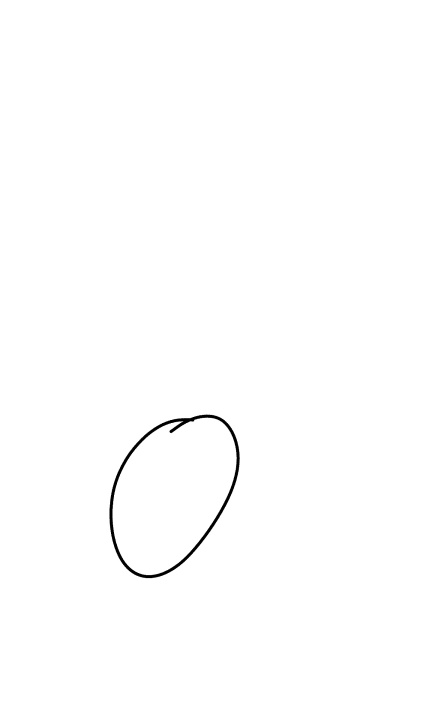Circle: (103, 413, 244, 583)
